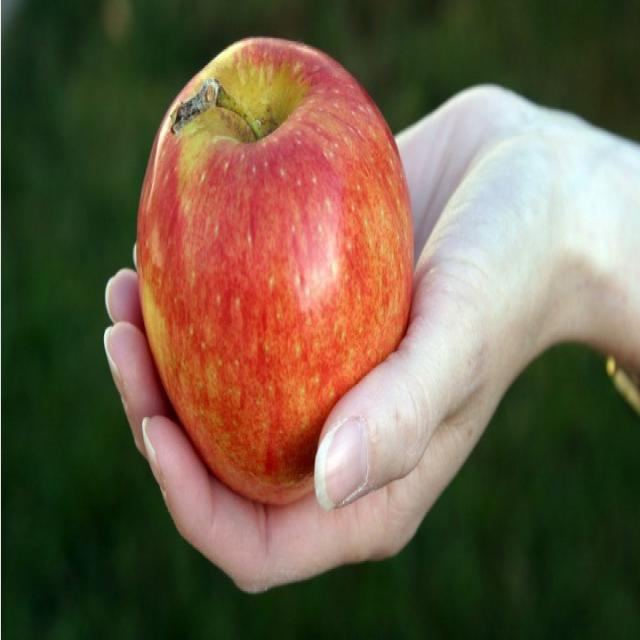Apple: (132, 31, 413, 509)
